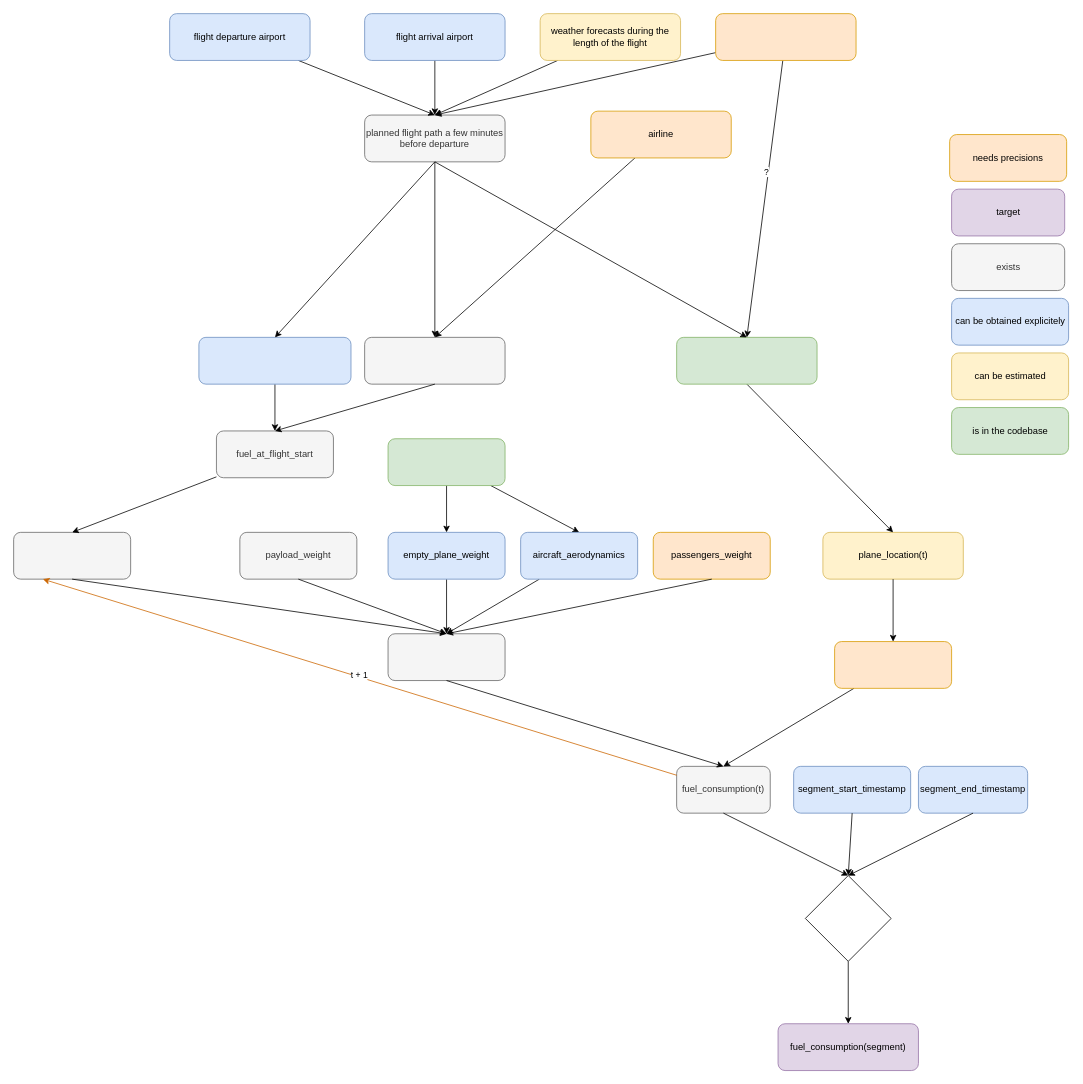
This 1083x1084 diagram has some shape labels left out. The centre of each missing label's shape, as x and y in pixels:
actual_flight_path: point 746,360
aircraft_type: point 446,462
estimated_needed_fuel_for_flight: point 274,360
Eurocontrol's regulations: point 785,36
fuel_weight(t): point 72,555
plane_weight(t): point 446,657
safety_margin: point 434,360
via integration of fuel_consumption between segment.start and segment.end: point 848,918
weather_around_plane(t): point 893,664
